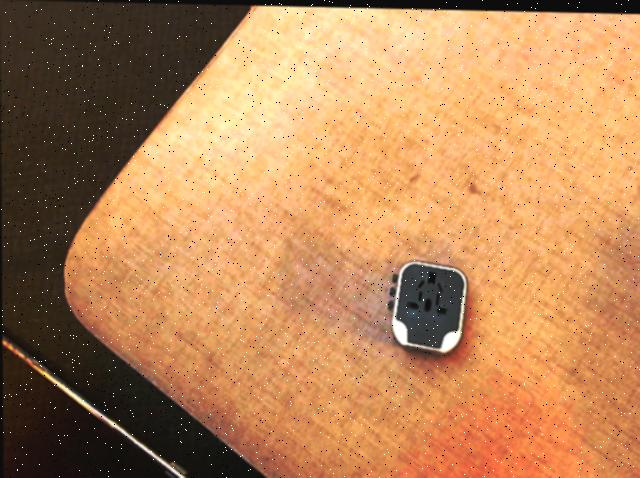adapter: (386, 258, 467, 353)
